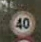limite 40: (8, 9, 36, 38)
